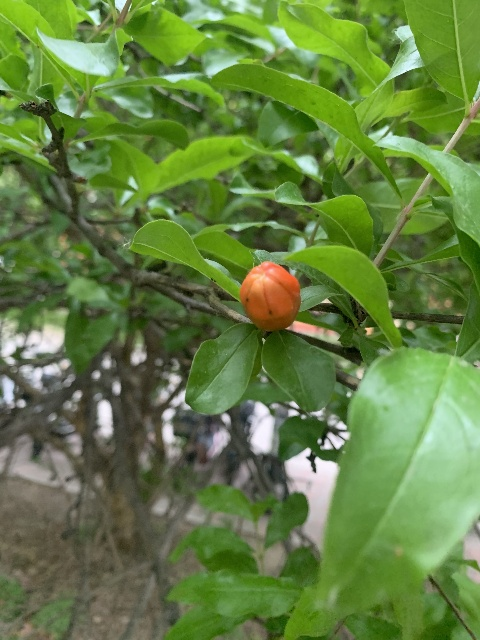bud: (240, 261, 300, 331)
